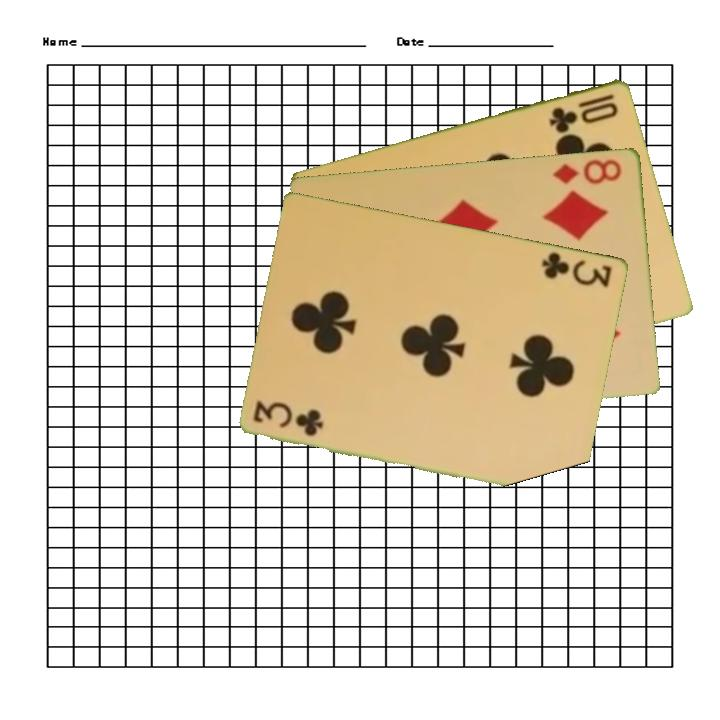10c: (546, 89, 621, 134)
3c: (539, 248, 615, 290), (250, 398, 327, 439)
8d: (550, 155, 625, 187)
